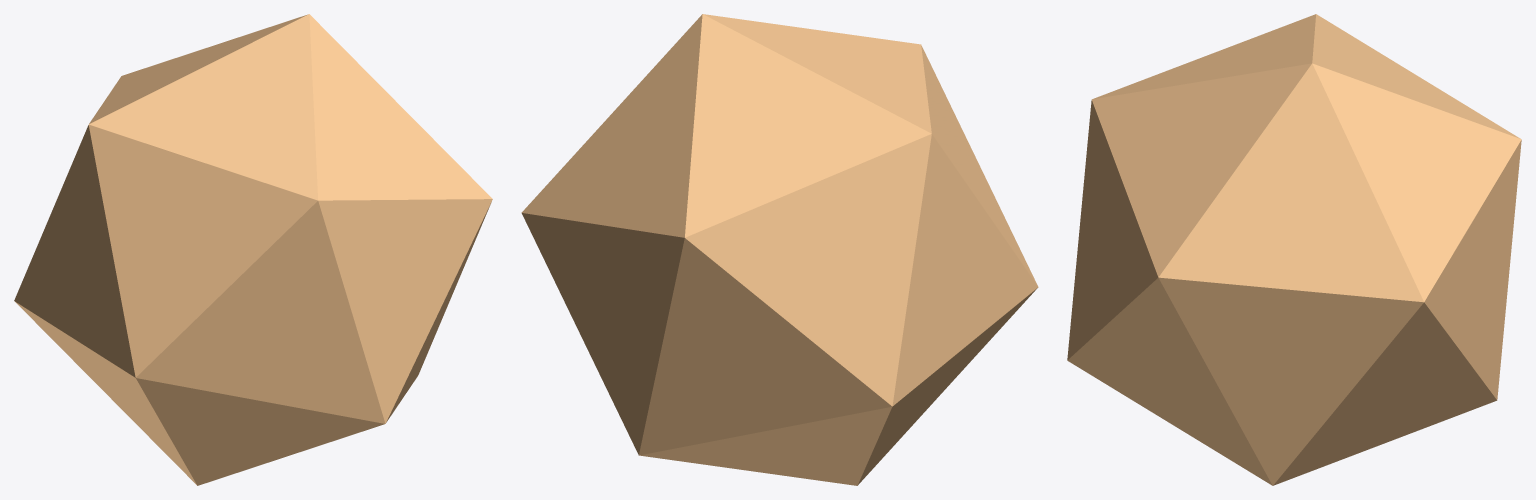
The model's file is decaedro.glb.
3 views of the same model, side by side, from view 1: azimuth 30°, elevation 25°; view 2: azimuth 150°, elevation 25°; view 3: azimuth 270°, elevation 25° (orthographic). The views are drawn at different scales.
Parts seen in each view (by area): view 1: Icosphere.002; view 2: Icosphere.002; view 3: Icosphere.002.
Part boxes in pixels (<box>): Icosphere.002: <box>14,14,492,485</box>; Icosphere.002: <box>521,14,1038,485</box>; Icosphere.002: <box>1067,14,1521,485</box>.
Size of the model in its own units: 2.79 by 3.15 by 2.96.
